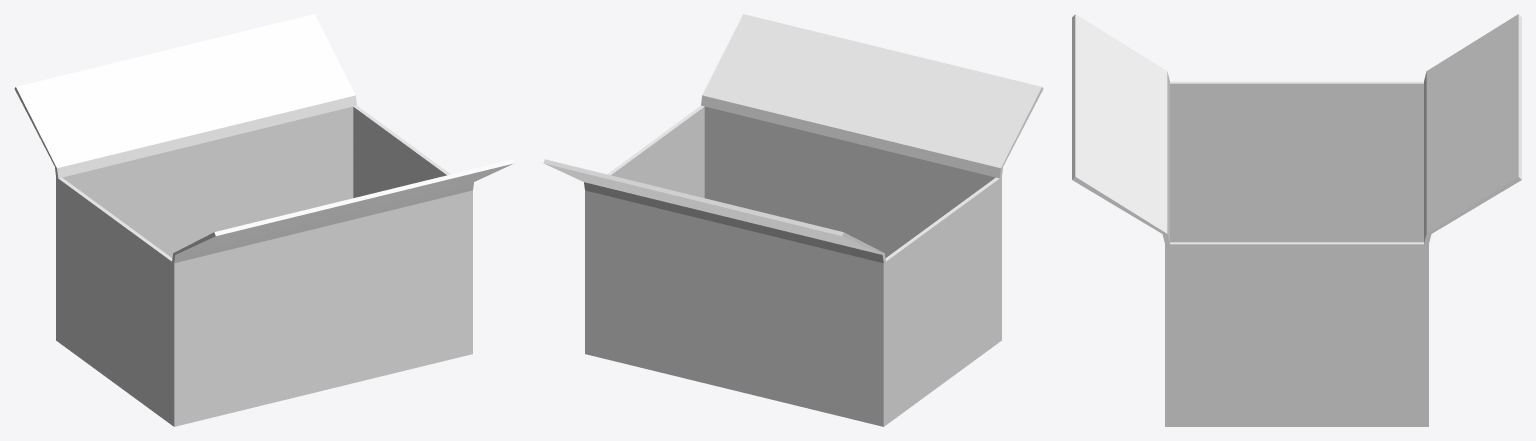
File: Prop_Cardboard_Box_01.glb
3 renders of one model, left to right at view 1: azimuth 30°, elevation 25°; view 2: azimuth 150°, elevation 25°; view 3: azimuth 270°, elevation 25°, orthographic. The views are drawn at different scales.
Visible parts, largest first — view 1: Prop_Cardboard Box_01; view 2: Prop_Cardboard Box_01; view 3: Prop_Cardboard Box_01.
Part boxes in pixels (x1,y1,x2,y2): Prop_Cardboard Box_01: (14,14,514,426); Prop_Cardboard Box_01: (543,14,1043,426); Prop_Cardboard Box_01: (1072,14,1521,426).
Bounding box in the file's own units: 0.73 × 0.5235 × 0.8526.
Materials: 1 (1 with a texture image).
